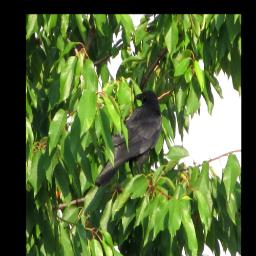Crow: (94, 90, 162, 187)
